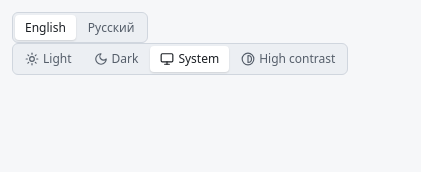
Scenario: LanguageSwitch › switches the whole UI, the document language and remembers the choice
The width and height of the screenshot is (421, 172).
Click the radio button labelled "Русский" at [111, 28], box top-left (78, 15), bottom-right (144, 40)
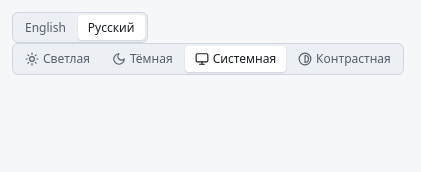
Check: the element named "Язык" is shown, box top-left (12, 12), bottom-right (148, 43)
Check: the radio button labelled "Тёмная" is shown, box top-left (102, 46), bottom-right (183, 72)
